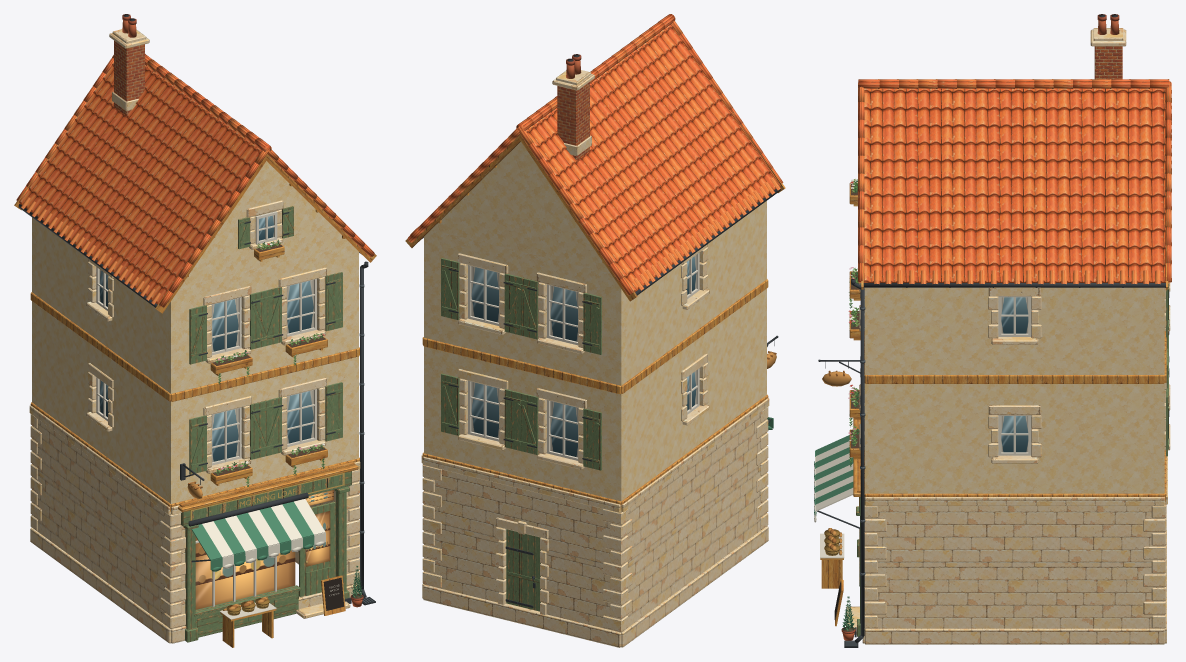
3 views of the same model, side by side, from view 1: azimuth 30°, elevation 25°; view 2: azimuth 150°, elevation 25°; view 3: azimuth 270°, elevation 25° (orthographic). The views are drawn at different scales.
Parts seen in each view (by area): view 1: seaside_plaster, seaside_roof, seaside_stone, seaside_shutter, house_paint, seaside_timber, house_window_pane, shop_glass, detail_window_boxes, detail_wares, house_brick, seaside_ridge; view 2: seaside_stone, seaside_plaster, seaside_roof, seaside_shutter, seaside_timber, house_window_pane, house_paint, house_brick, seaside_ridge; view 3: seaside_roof, seaside_plaster, seaside_stone, house_paint, seaside_timber, seaside_ridge, house_window_pane, detail_window_boxes, detail_wares, house_brick, seaside_shutter.
Boxes of the visible parts, x1,y1,x2,y2 form: seaside_plaster: (32,161,358,503); seaside_roof: (16,55,374,307); seaside_stone: (29,29,360,643); seaside_shutter: (181,206,351,642); house_paint: (18,14,375,606); seaside_timber: (14,116,376,512); house_window_pane: (99,211,313,461); shop_glass: (195,490,333,609); detail_window_boxes: (210,239,327,486); detail_wares: (219,575,345,647); house_brick: (114,40,144,116); seaside_ridge: (145,54,271,153); seaside_stone: (421,70,769,647); seaside_plaster: (424,142,766,501); seaside_roof: (407,21,783,295); seaside_shutter: (441,258,601,611); seaside_timber: (405,95,785,509); house_window_pane: (471,255,696,457); house_paint: (422,54,780,607); house_brick: (557,82,589,162); seaside_ridge: (516,14,675,130); seaside_roof: (858,81,1171,284); seaside_plaster: (865,287,1164,493); seaside_stone: (846,28,1170,644); house_paint: (814,14,1169,647); seaside_timber: (853,192,1168,501); seaside_ridge: (858,79,1169,88); house_window_pane: (1001,297,1028,452); detail_window_boxes: (848,178,860,466); detail_wares: (820,528,844,626); house_brick: (1094,46,1122,79); seaside_shutter: (856,283,1168,636).
Bounding box in the file's own units: 5.87 × 13.36 × 7.64.
12 materials, 10 textured.
